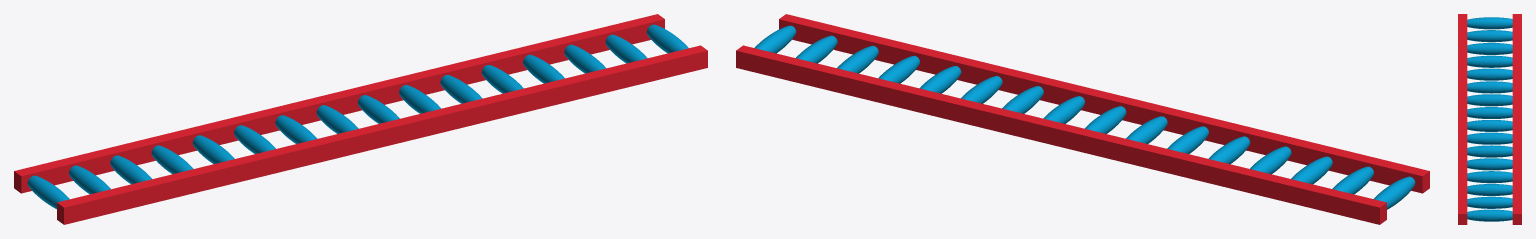
The model's file is Wall.obj.
3 views of the same model, side by side, from view 1: azimuth 30°, elevation 25°; view 2: azimuth 150°, elevation 25°; view 3: azimuth 270°, elevation 25° (orthographic). The views are drawn at different scales.
Parts seen in each view (by area): view 1: group_0_15277357, group_0_40919; view 2: group_0_15277357, group_0_40919; view 3: group_0_40919, group_0_15277357.
Part boxes in pixels (x1,y1,x2,y2): group_0_15277357: [14, 14, 707, 224]; group_0_40919: [27, 24, 688, 209]; group_0_15277357: [736, 14, 1429, 224]; group_0_40919: [754, 25, 1415, 209]; group_0_40919: [1467, 17, 1512, 221]; group_0_15277357: [1458, 14, 1521, 224].
Bounding box in the file's own units: 156 × 4 × 21.
